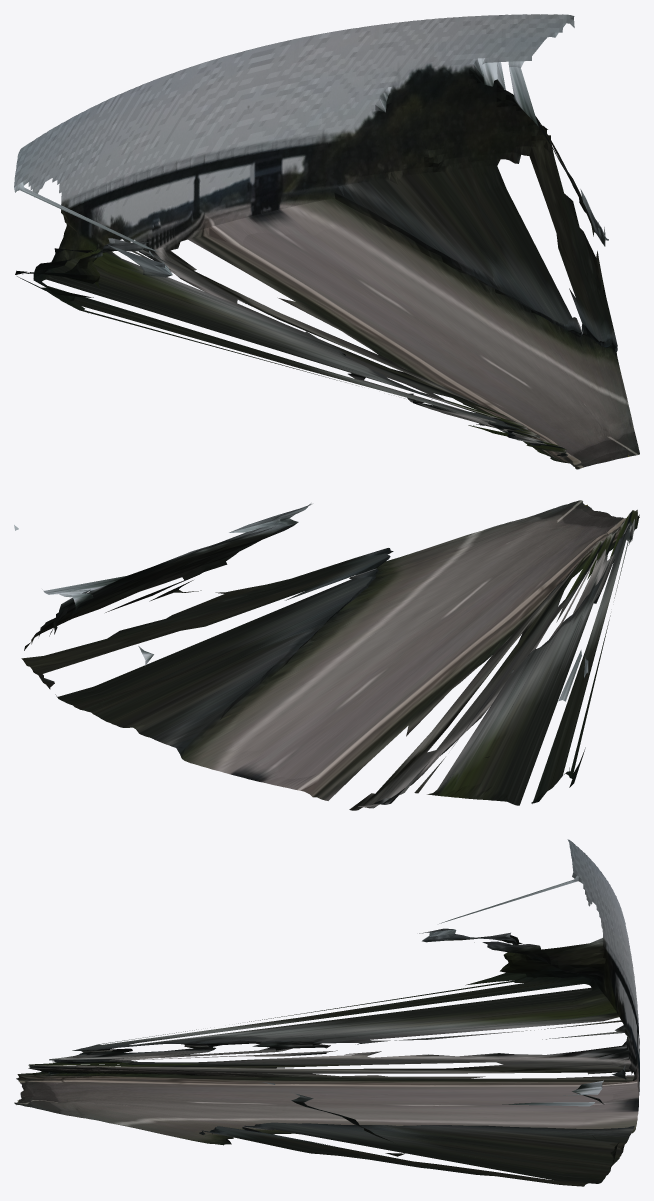
3 views of the same model, one above another, from view 1: azimuth 30°, elevation 25°; view 2: azimuth 150°, elevation 25°; view 3: azimuth 270°, elevation 25° (orthographic). The views are drawn at different scales.
Parts seen in each view (by area): view 1: defaultobject; view 2: defaultobject; view 3: defaultobject.
Part boxes in pixels (box(x1,y1,x2,y2)): defaultobject: box(14, 14, 639, 469); defaultobject: box(14, 500, 639, 810); defaultobject: box(14, 839, 639, 1186).
Bounding box in the file's own units: 40.72 × 12.95 × 44.84.
Materials: 1 (1 with a texture image).
